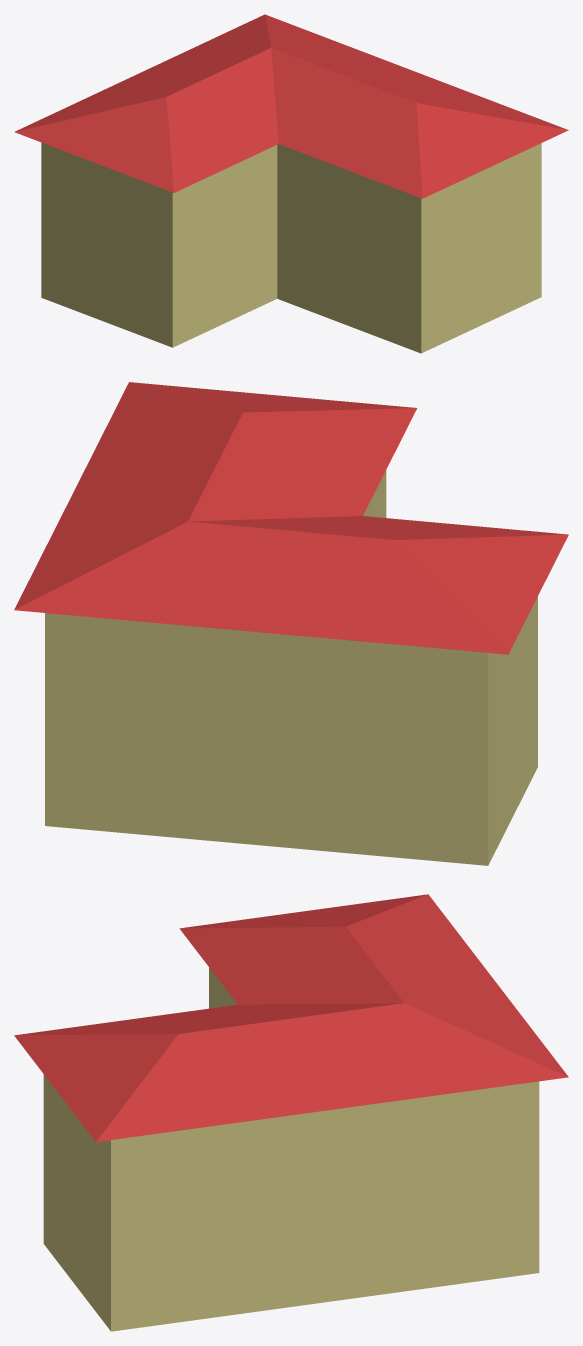
3 renders of one model, top to bottom at view 1: azimuth 30°, elevation 25°; view 2: azimuth 150°, elevation 25°; view 3: azimuth 270°, elevation 25°, orthographic. The views are drawn at different scales.
Bounding box in the file's own units: 18.63 × 17.63 × 8.41.
